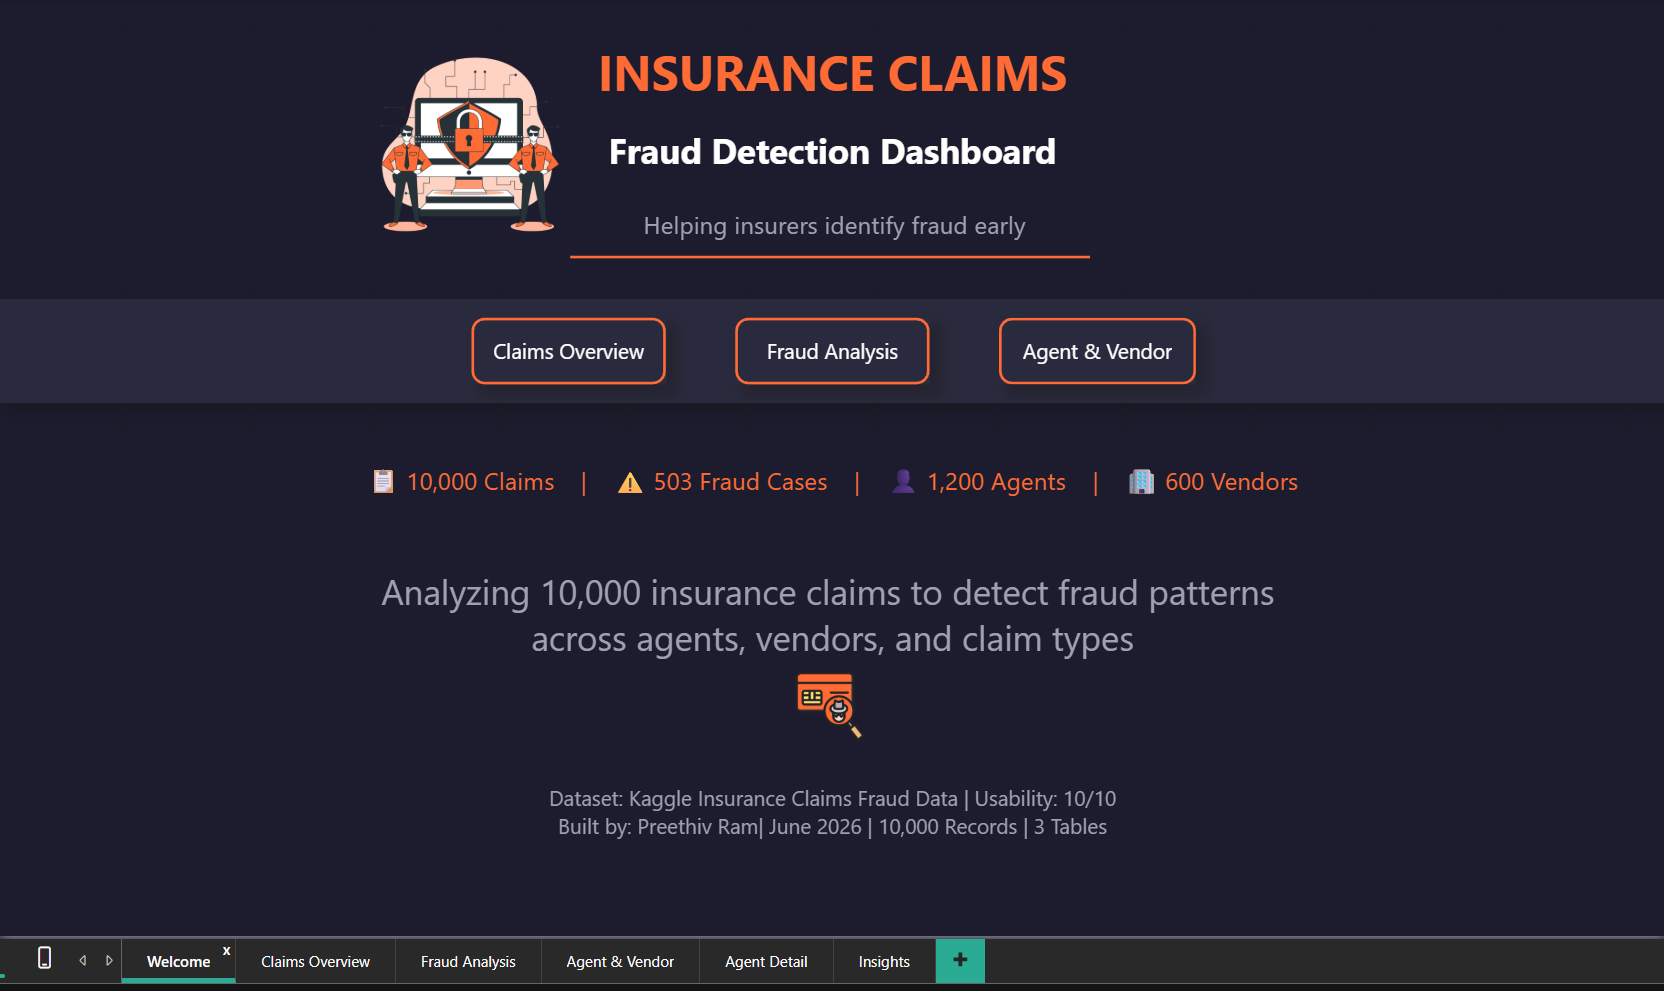

This screenshot's page, from the dashboard's own definition file:
{"tool":"powerbi","page":{"name":"Welcome","canvas":[1280,720],"ordinal":0},"visuals":[{"type":"shape","box":[0,230.6,1280.3,80.3],"z":0},{"type":"textbox","box":[0,26,1280.3,66.8],"z":1000},{"type":"textbox","box":[0,92.8,1280.3,63.1],"z":2000},{"type":"textbox","box":[2.5,155.9,1277.8,48.2],"z":3000},{"type":"shape","box":[439.1,191.7,399.5,12.4],"z":4000},{"type":"actionButton","box":[363.1,245.2,149.2,51.1],"z":5000},{"type":"actionButton","box":[565.6,245.2,149.2,51.1],"z":6000},{"type":"actionButton","box":[768,245.2,151.3,51.1],"z":7000},{"type":"textbox","box":[0,596.9,1280.3,60.5],"z":8000},{"type":"textbox","box":[0,432,1280.3,83.5],"z":9000},{"type":"textbox","box":[0,352.5,1280.3,48.2],"z":11000},{"type":"image","box":[262.1,25.9,200.6,174.7],"z":12000},{"type":"image","box":[605.2,515.5,65.7,55.3],"z":13000}]}

Visuals, with their boxes on the page's 1280x720 design canvas (x1, y1, x2, y2). These are canvas units, not pixel positions in the 1664x991 screenshot, which may show the page scaled, cropped or inside an application window:
shape: (0,231,1280,311)
textbox: (0,26,1280,93)
textbox: (0,93,1280,156)
textbox: (2,156,1280,204)
shape: (439,192,839,204)
actionButton: (363,245,512,296)
actionButton: (566,245,715,296)
actionButton: (768,245,919,296)
textbox: (0,597,1280,657)
textbox: (0,432,1280,516)
textbox: (0,352,1280,401)
image: (262,26,463,201)
image: (605,516,671,571)
